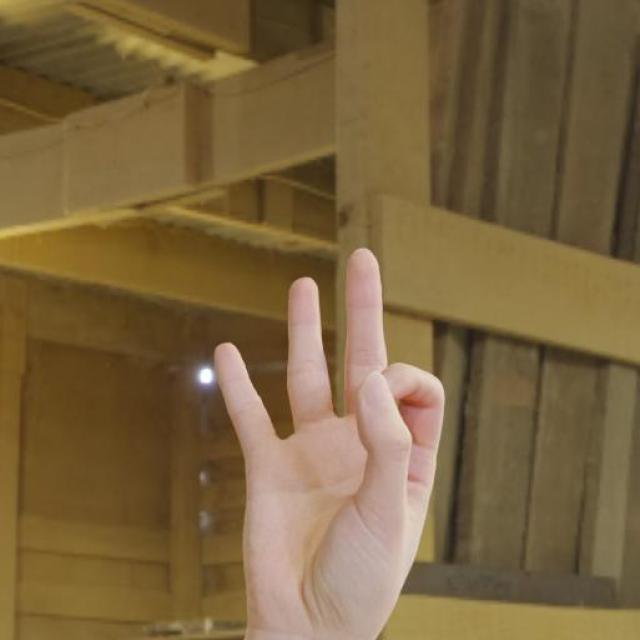F: (212, 245, 449, 630)
